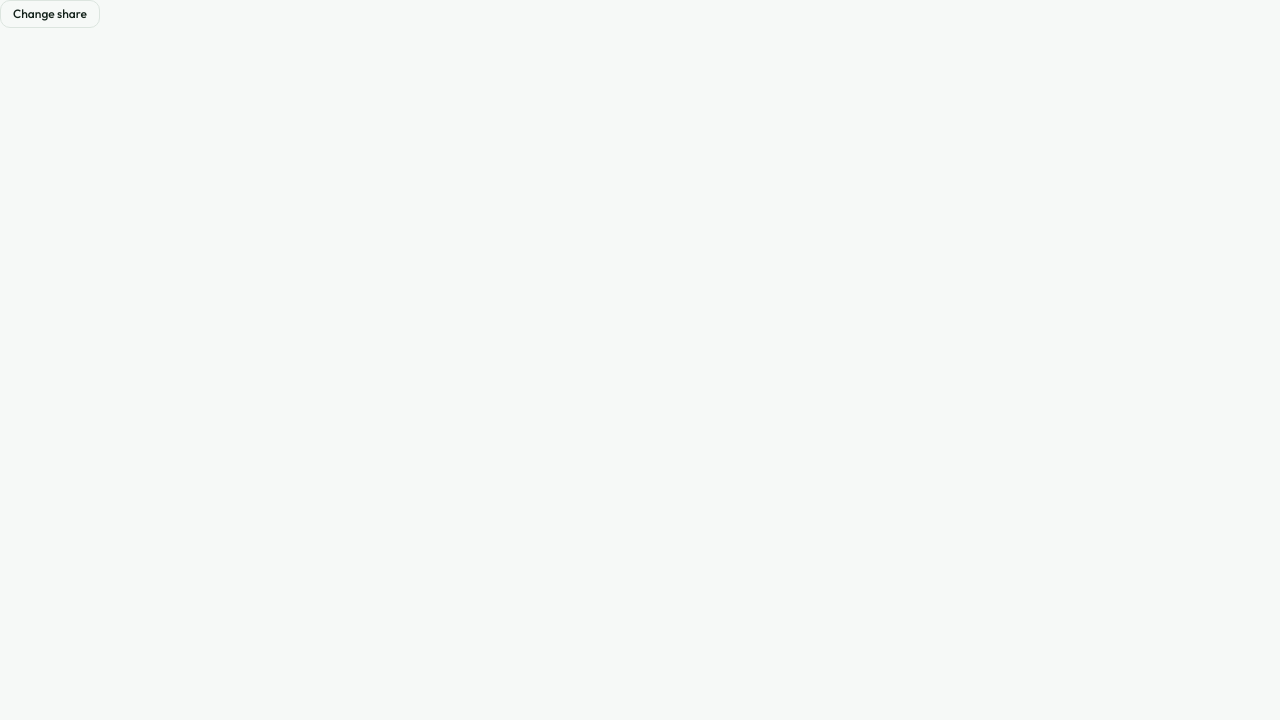
shared bill share (mocked, no real writes) › reducing an existing share updates it
The width and height of the screenshot is (1280, 720).
Later steps or results of the test are not shown.
Click the button "Change share".
click(50, 14)  # box x1=0 y1=0 x2=100 y2=28
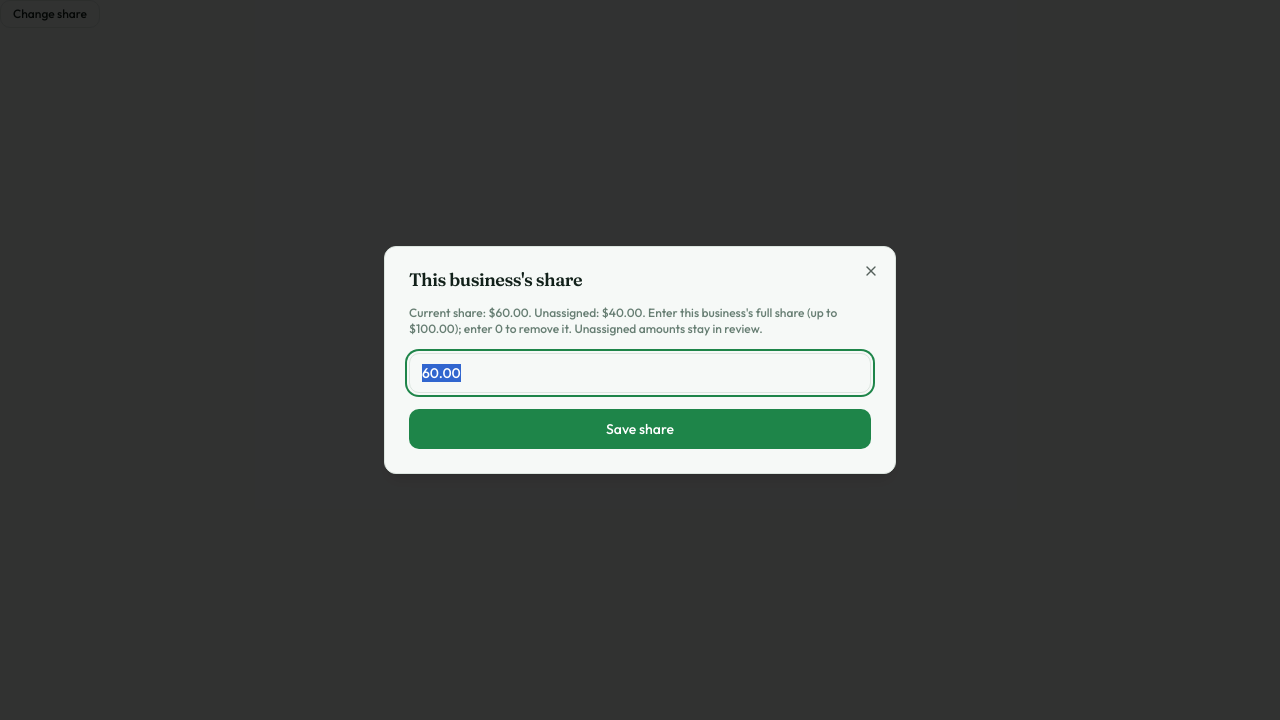
Expected: the field with placeholder "0.00" holds "60.00", x1=409 y1=353 x2=871 y2=393
